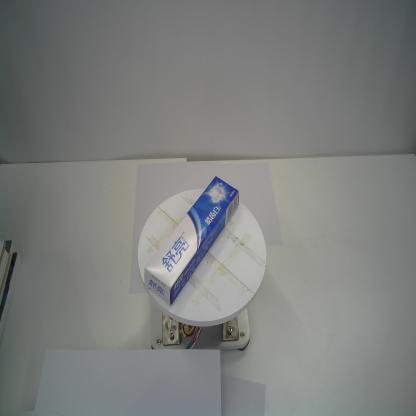Personal Hygiene: (144, 175, 239, 306)
